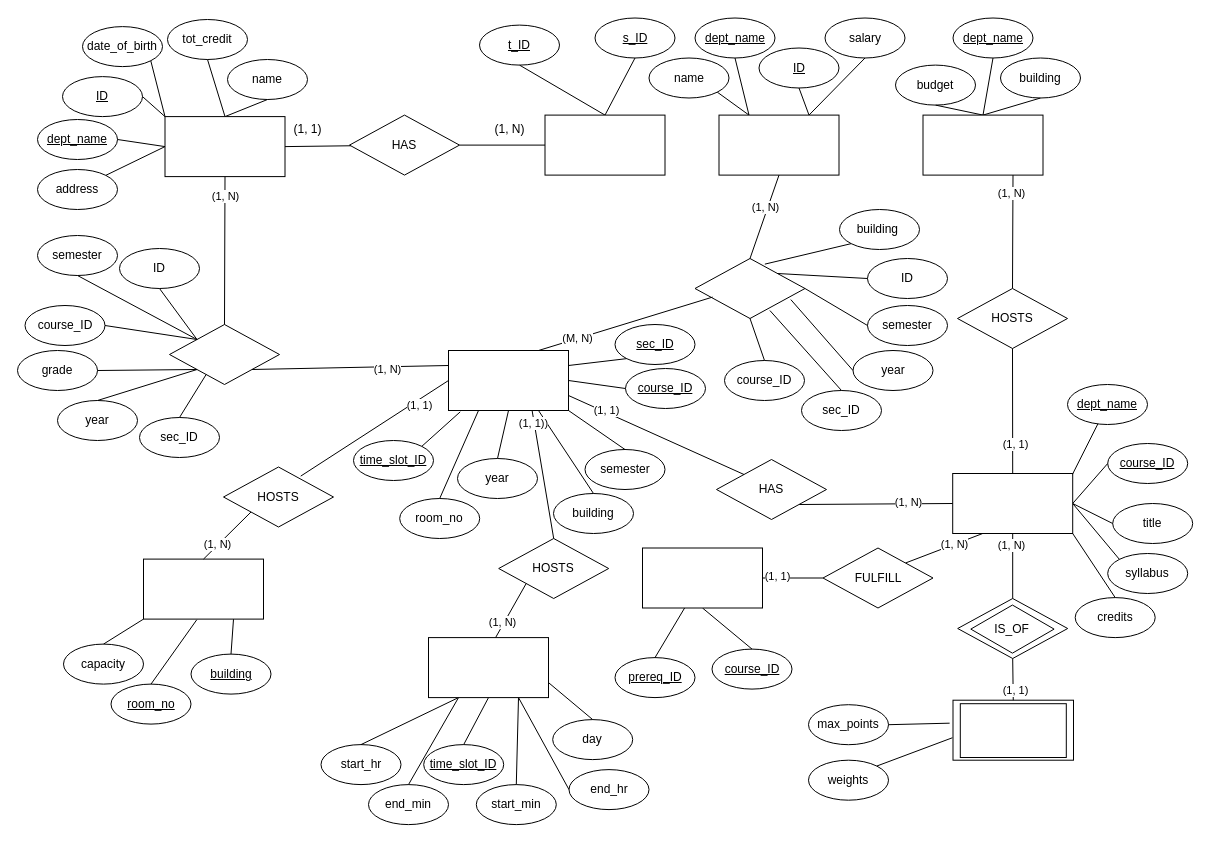
Some shapes in this 1211 by 842 pixel diagram are drawn without their labels. The centre of each missing label's shape, as x and y in pixels:
Advisor: the point at 604,144
Classroom: the point at 203,588
Course: the point at 1012,503
Department: the point at 982,144
Grading Components: the point at 1012,730
Instructor: the point at 778,144
Prerequisite: the point at 702,577
Section: the point at 508,380
Student: the point at 224,146
TAKES: the point at 224,354
TEACHES: the point at 749,288
Time Slot: the point at 488,667
